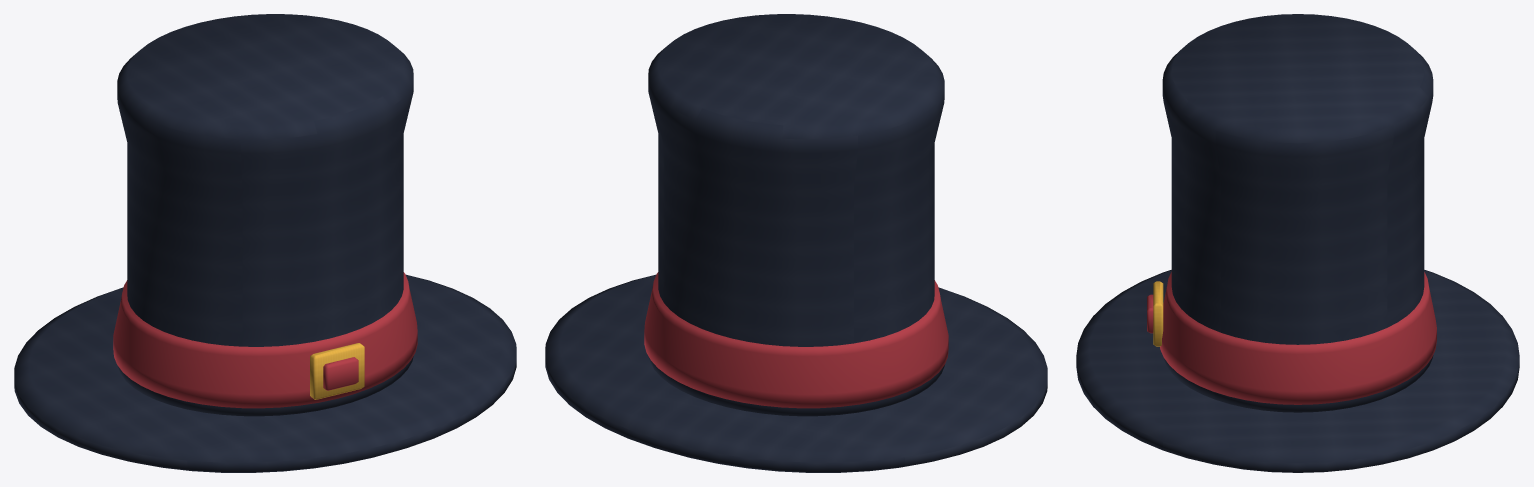
Rendered from KD_TopHat_Everyday.fbx.
3 renders of one model, left to right at view 1: azimuth 30°, elevation 25°; view 2: azimuth 150°, elevation 25°; view 3: azimuth 270°, elevation 25°, orthographic. The views are drawn at different scales.
Visible parts, largest first — view 1: KD_TopHat_Everyday; view 2: KD_TopHat_Everyday; view 3: KD_TopHat_Everyday.
Part boxes in pixels (<box>): KD_TopHat_Everyday: <box>14,14,516,472</box>; KD_TopHat_Everyday: <box>545,14,1047,472</box>; KD_TopHat_Everyday: <box>1076,14,1519,472</box>.
Bounding box in the file's own units: 0.202 × 0.133 × 0.1778.
Materials: 1 (1 with a texture image).
